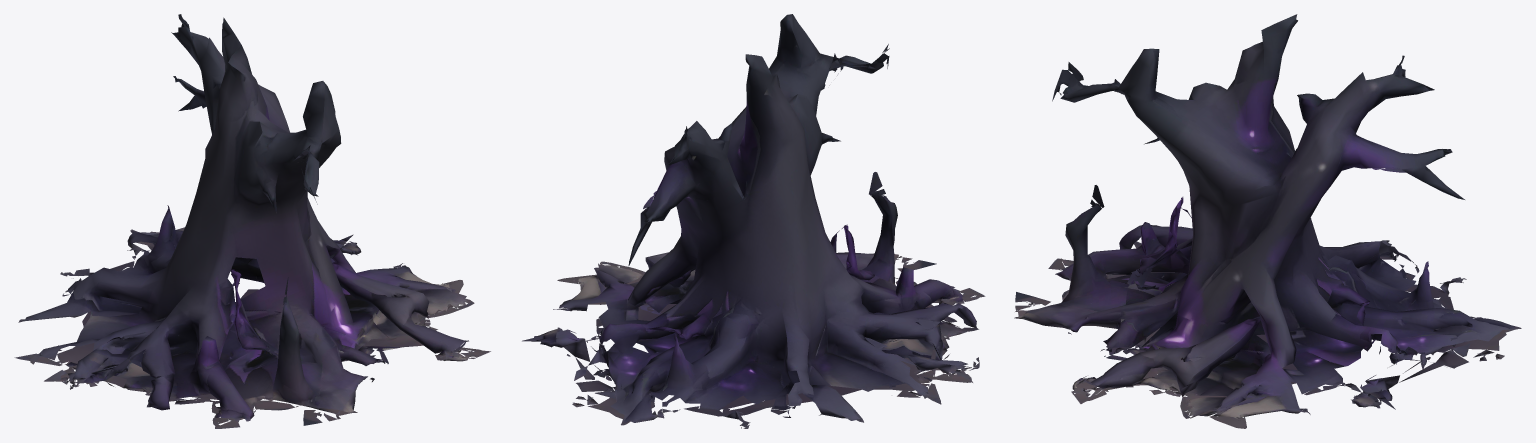
The model's file is SM_Vegetacion_ArbolEmbrujado_01.fbx.
The picture shows the model from 3 angles, left to right: view 1: azimuth 30°, elevation 25°; view 2: azimuth 150°, elevation 25°; view 3: azimuth 270°, elevation 25°; orthographic projection. The views are drawn at different scales.
Parts seen in each view (by area): view 1: SM_Vegetacion_ArbolEmbrujado_01; view 2: SM_Vegetacion_ArbolEmbrujado_01; view 3: SM_Vegetacion_ArbolEmbrujado_01.
Part boxes in pixels (x1,y1,x2,y2): SM_Vegetacion_ArbolEmbrujado_01: [14, 14, 490, 428]; SM_Vegetacion_ArbolEmbrujado_01: [522, 14, 985, 428]; SM_Vegetacion_ArbolEmbrujado_01: [1014, 14, 1521, 428].
Size of the model in its own units: 0.9565 by 0.655 by 0.9725.
1 material, 1 textured.
